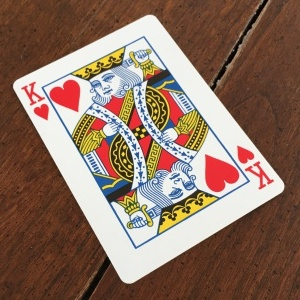card: (11, 14, 288, 286)
